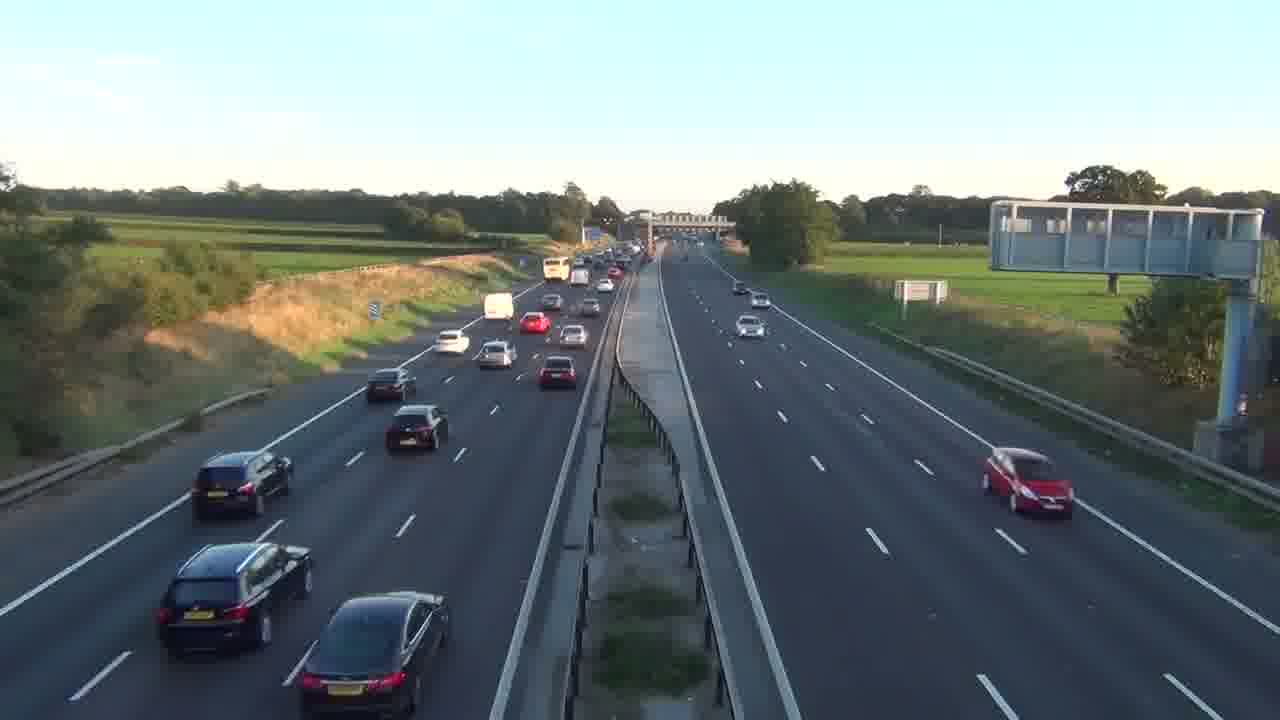car: (384, 404, 445, 452), (536, 355, 577, 389), (475, 339, 517, 369)
truck: (295, 589, 452, 716), (154, 537, 313, 658), (191, 449, 293, 522), (981, 445, 1074, 519), (482, 291, 514, 320)
